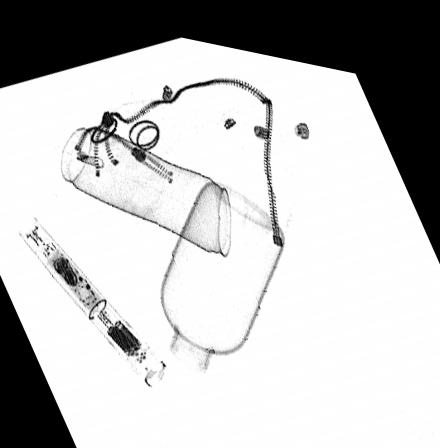Baton: (17, 215, 168, 382)
